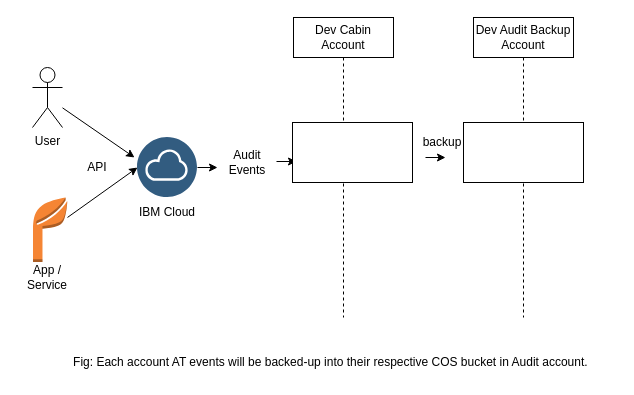
Image size: 634x395. Some labels were removed from this diagram. Here are the shapes that lost their labels. From the top down, the box of each, then its label:
(292, 122, 412, 182): Activity Tracker Instance
(462, 122, 584, 182): COS Bucket
